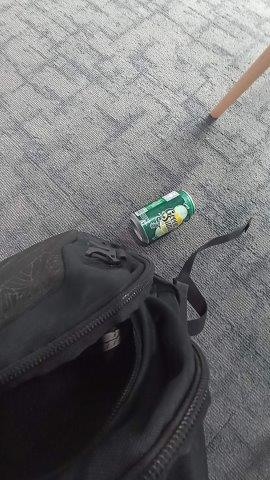kaleng: (130, 190, 196, 244)
